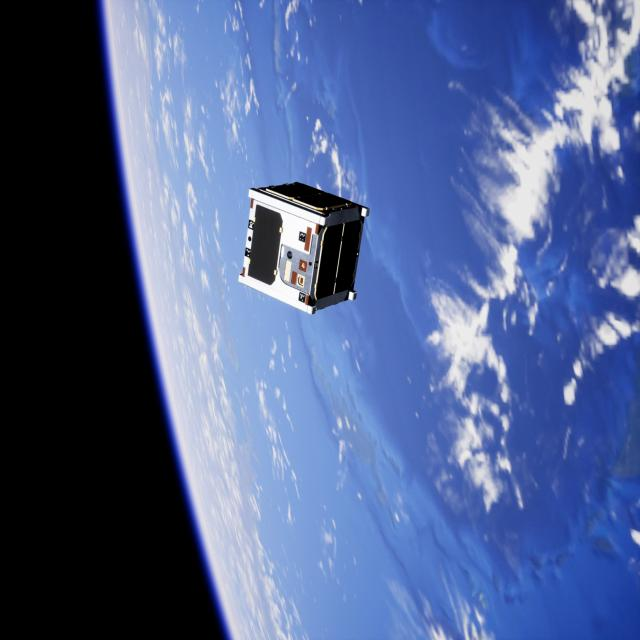satellite: (234, 180, 375, 312)
